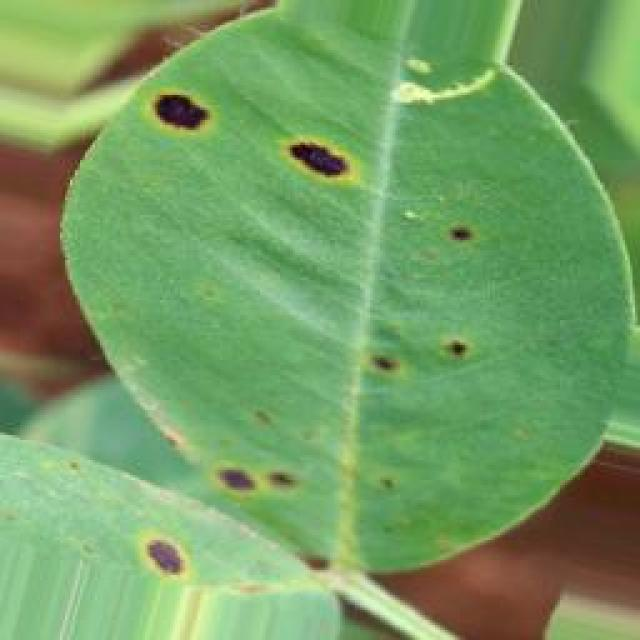Sigatoka: (248, 114, 372, 210), (362, 316, 483, 379), (120, 518, 209, 594), (142, 80, 222, 164), (198, 449, 308, 506), (411, 208, 514, 265), (239, 393, 307, 454), (362, 452, 407, 502)
